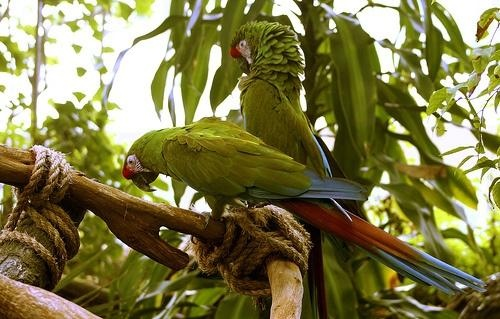bird: (114, 115, 487, 309), (228, 18, 374, 317)
